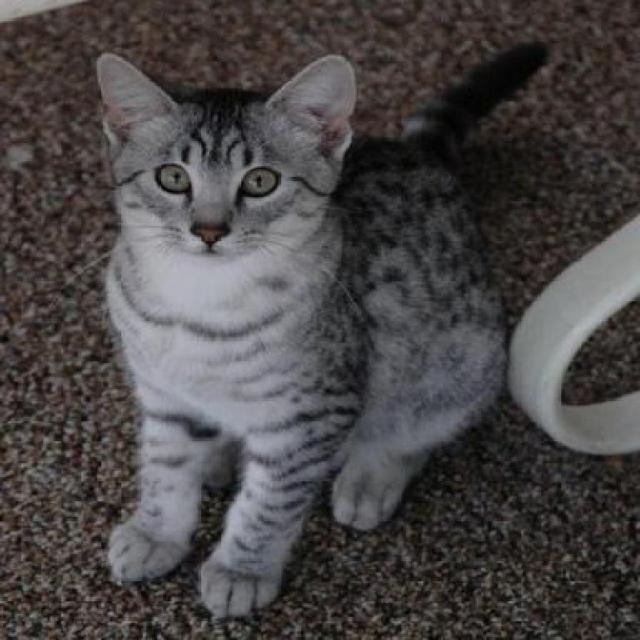cat: (92, 53, 508, 616)
